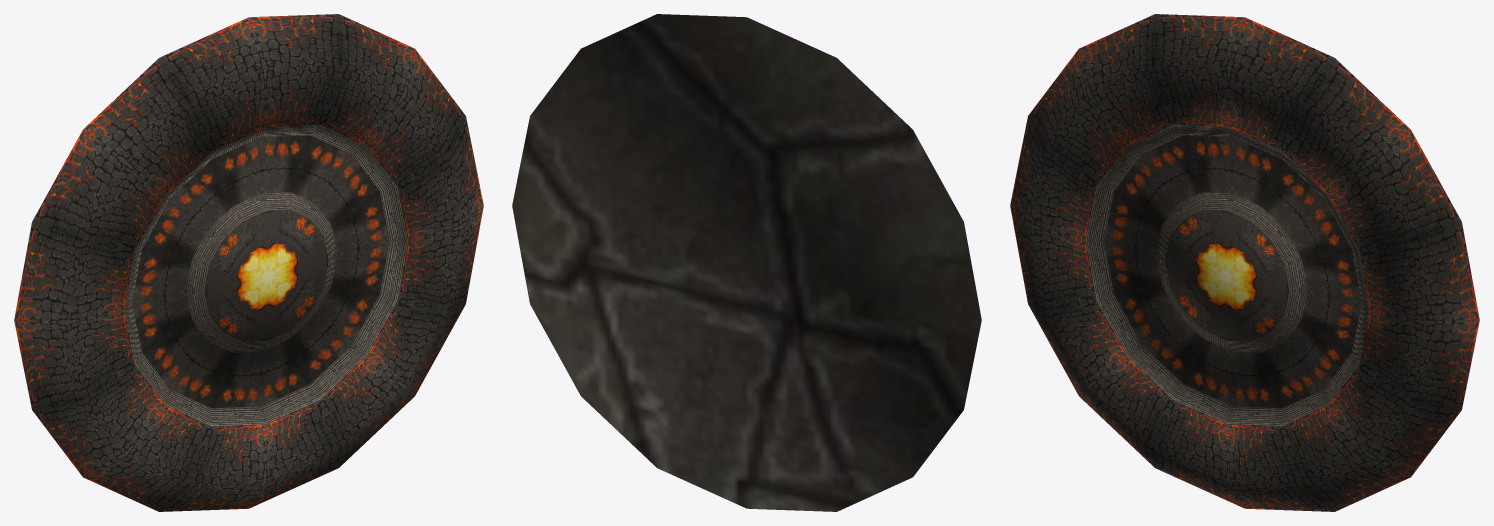
Rendered from arena_06.obj.
3 renders of one model, left to right at view 1: azimuth 30°, elevation 25°; view 2: azimuth 150°, elevation 25°; view 3: azimuth 330°, elevation 25°, orthographic.
Visible parts, largest first — view 1: (null); view 2: (null); view 3: (null).
Boxes of the visible parts, <box> form: (null): <box>14,14,483,511</box>; (null): <box>512,14,981,511</box>; (null): <box>1010,14,1479,511</box>.
Bounding box in the file's own units: 5.88 × 5.88 × 0.4209.
